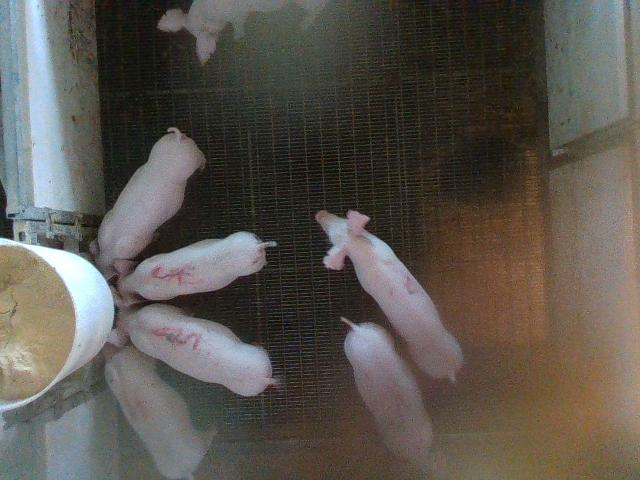pig-1: (344, 320, 432, 468)
pig-3: (108, 304, 278, 396)
pig-4: (105, 345, 216, 479)
pig-5: (110, 231, 276, 307)
